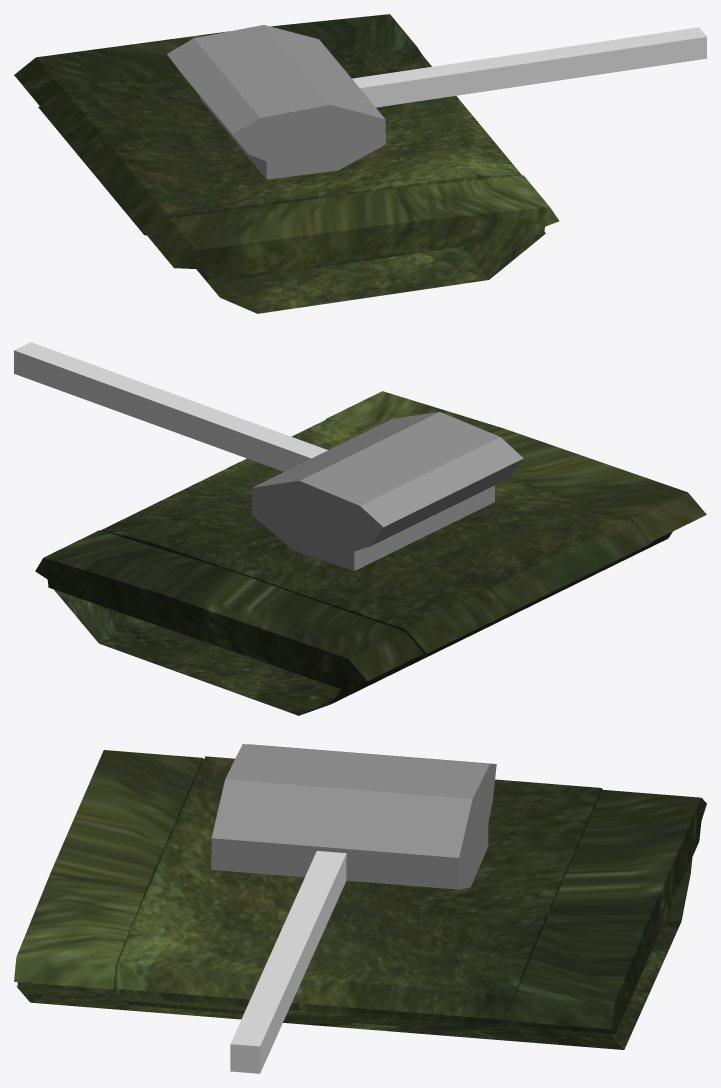
The model's file is tankssss.fbx.
3 renders of one model, top to bottom at view 1: azimuth 30°, elevation 25°; view 2: azimuth 150°, elevation 25°; view 3: azimuth 270°, elevation 25°, orthographic. The views are drawn at different scales.
Parts seen in each view (by area): view 1: Line001, 1.Создать анимацию движения трех связанных объектов по замкн, Line040, Box001, Line003, Line002; view 2: Line001, Line002, Line040, 1.Создать анимацию движения трех связанных объектов по замкн, Line003, Box001; view 3: Line001, Line040, Line002, 1.Создать анимацию движения трех связанных объектов по замкн, Box001, Line003.
Part boxes in pixels (<box>): Line001: <box>38,46,521,280</box>; 1.Создать анимацию движения трех связанных объектов по замкн: <box>147,175,559,279</box>; Line040: <box>167,25,385,179</box>; Box001: <box>352,27,706,107</box>; Line003: <box>205,231,545,313</box>; Line002: <box>14,14,421,105</box>; Line001: <box>101,419,651,675</box>; Line002: <box>35,530,423,688</box>; Line040: <box>251,412,523,570</box>; 1.Создать анимацию движения трех связанных объектов по замкн: <box>326,391,706,542</box>; Line003: <box>54,531,672,715</box>; Box001: <box>14,342,327,471</box>; Line001: <box>116,756,602,1036</box>; Line040: <box>211,744,496,889</box>; Line002: <box>512,790,706,1033</box>; 1.Создать анимацию движения трех связанных объектов по замкн: <box>14,750,203,994</box>; Box001: <box>230,851,346,1073</box>; Line003: <box>16,858,692,1049</box>.
Size of the model in its own units: 84.24 by 19.02 by 68.79.
2 materials, 1 textured.
